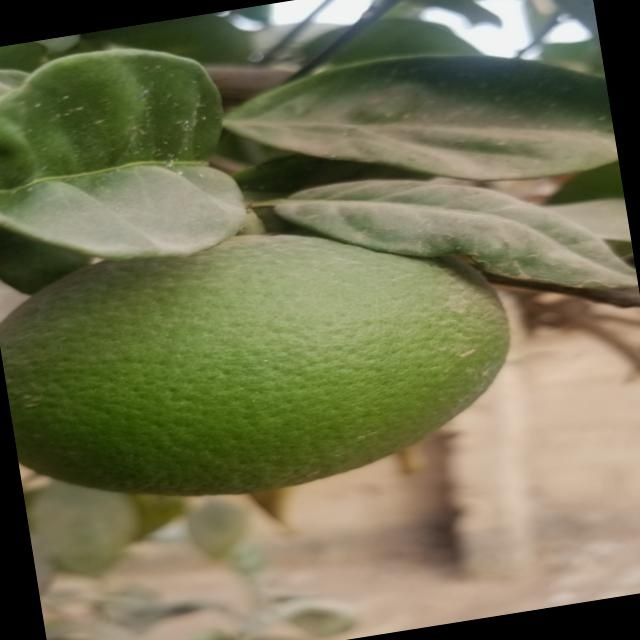agrume: (0, 197, 529, 529)
